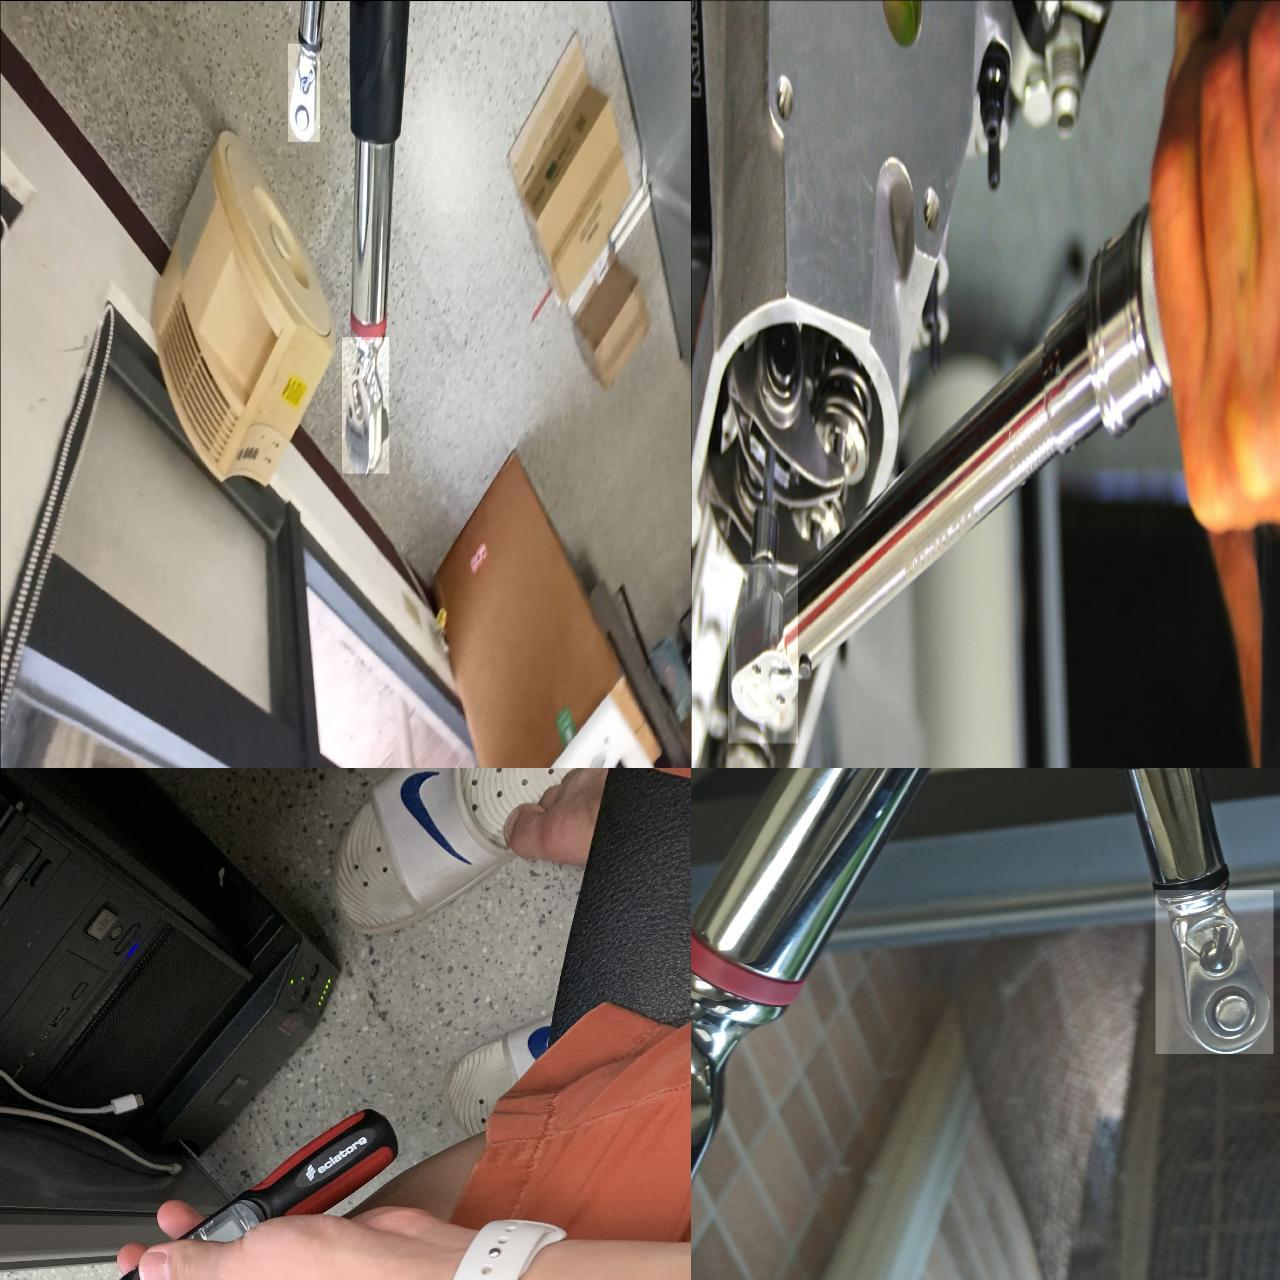Tool: (1155, 888, 1273, 1053), (728, 564, 797, 742), (341, 336, 389, 474), (287, 42, 320, 141)
